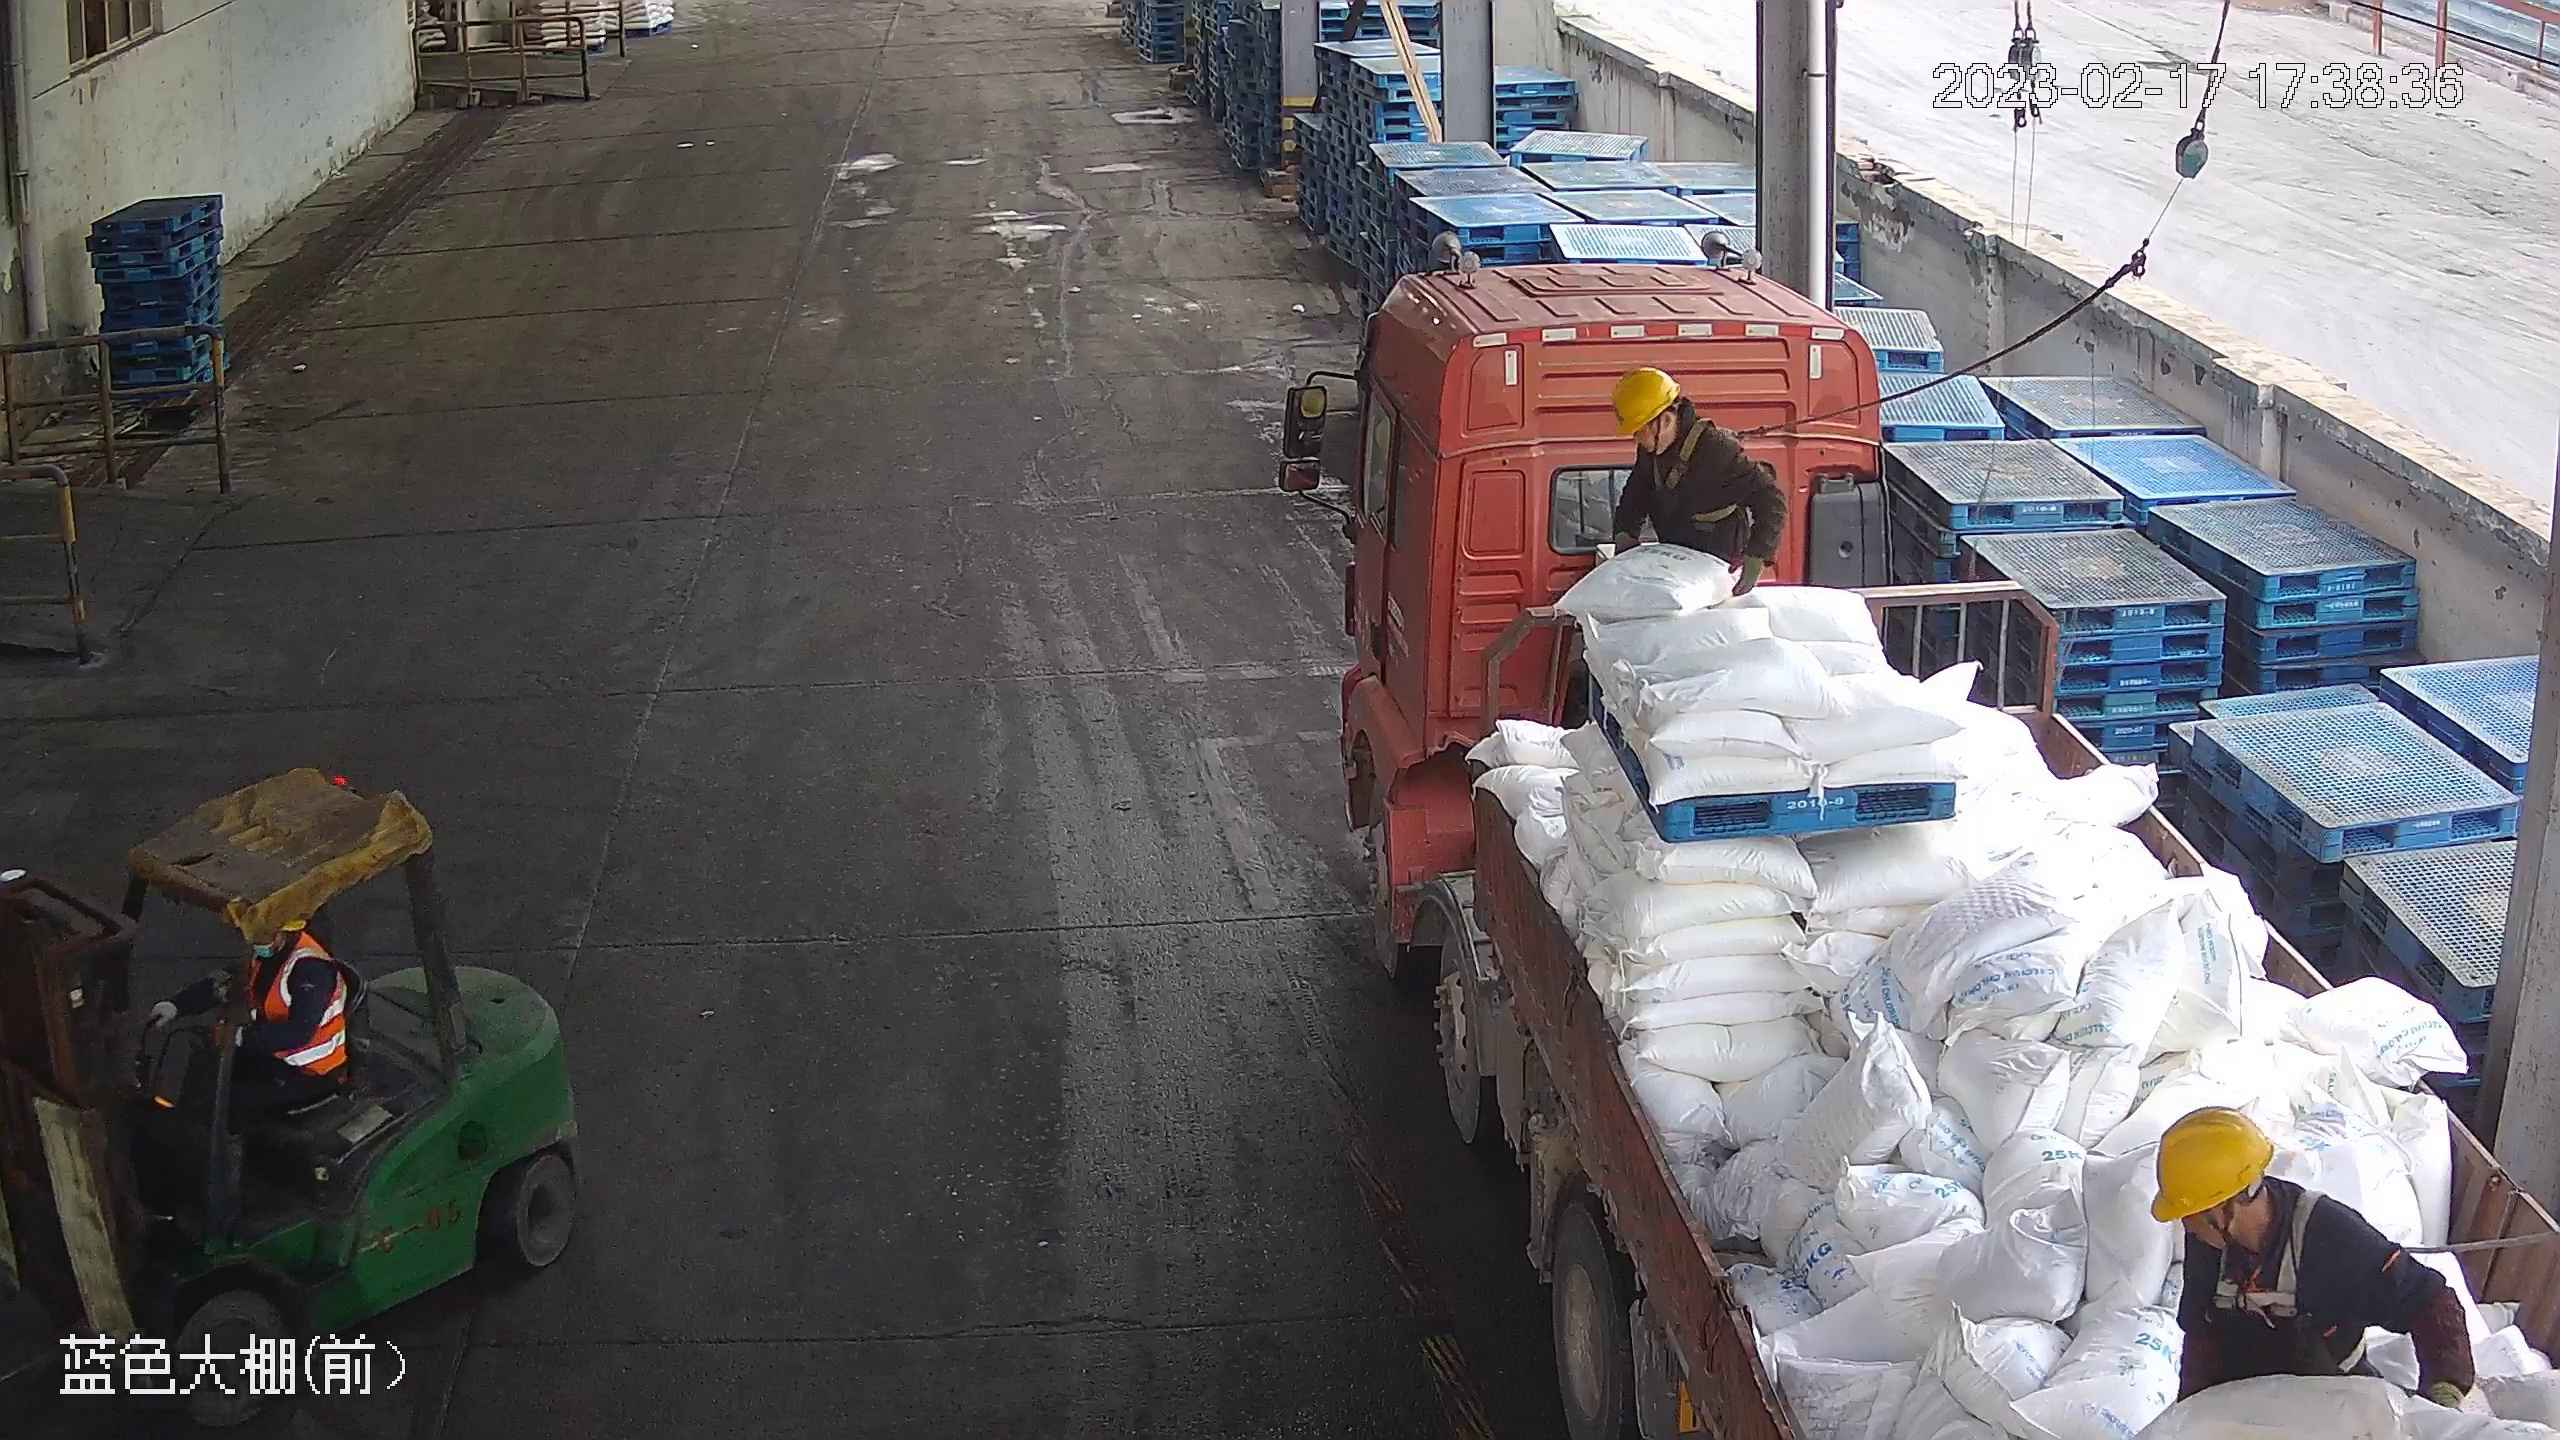belt: (2192, 1178, 2334, 1323), (1651, 423, 1740, 520)
head: (2148, 1103, 2382, 1313), (1608, 362, 1739, 477)
helmet: (2148, 1102, 2278, 1222), (1610, 361, 1681, 435)
people: (1602, 362, 1787, 599)
truck: (1302, 201, 2560, 1440)
